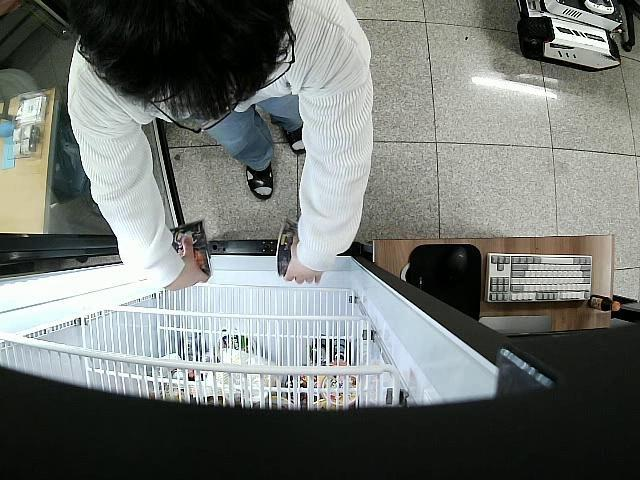07_buldak_L: (172, 216, 213, 280), (275, 216, 301, 280)
